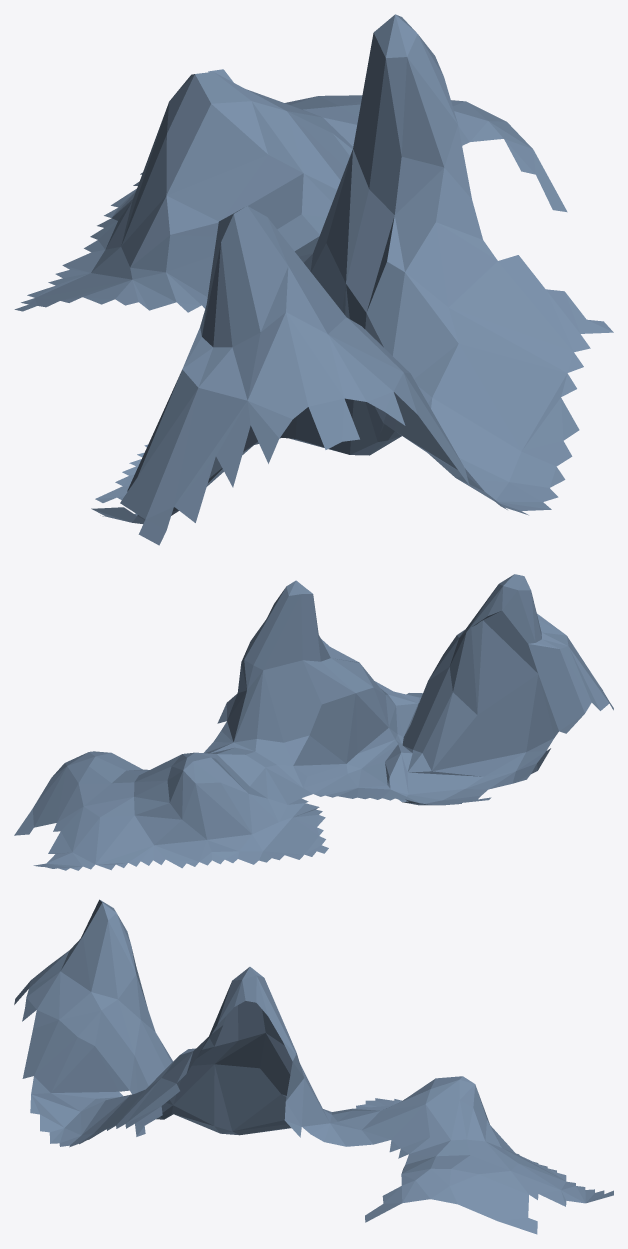
The picture shows the model from 3 angles, top to bottom: view 1: azimuth 30°, elevation 25°; view 2: azimuth 150°, elevation 25°; view 3: azimuth 270°, elevation 25°; orthographic projection. The views are drawn at different scales.
Parts seen in each view (by area): view 1: MT1; view 2: MT1; view 3: MT1.
Part boxes in pixels (box(x1,y1,x2,y2)): MT1: box(14, 14, 613, 545); MT1: box(14, 574, 613, 870); MT1: box(14, 899, 613, 1234).
Bounding box in the file's own units: 83.99 × 43.28 × 114.
